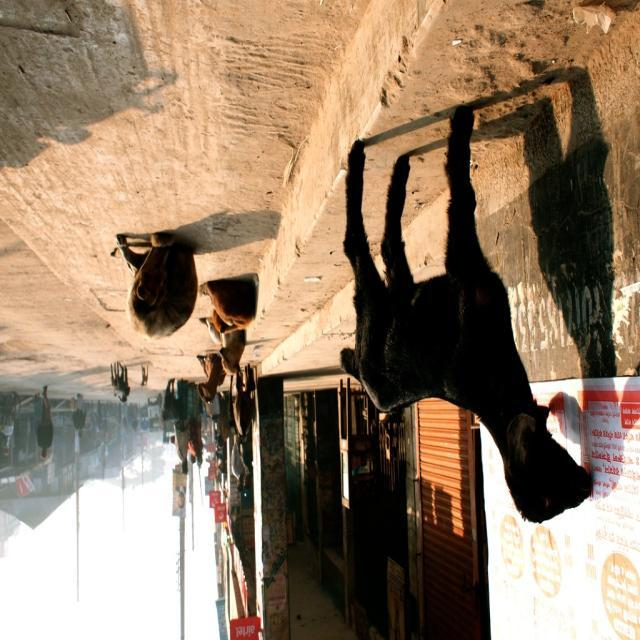Goat: (339, 107, 594, 527), (114, 233, 199, 341), (201, 278, 258, 338), (233, 366, 257, 444), (197, 354, 227, 406), (163, 380, 183, 425)
